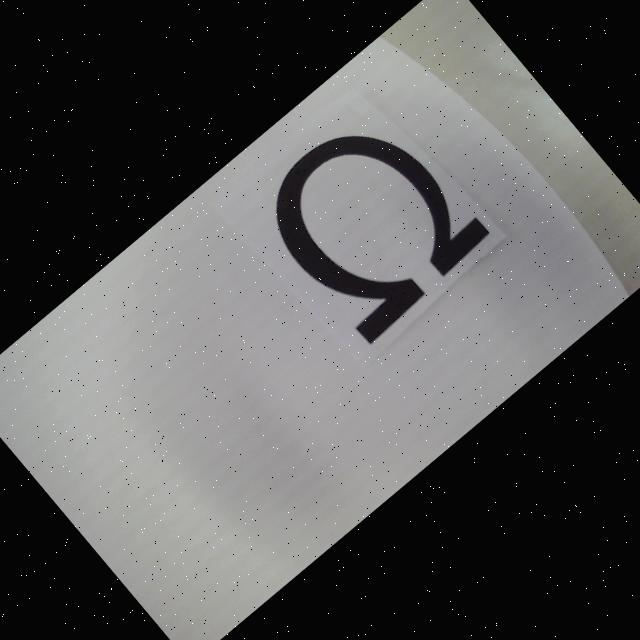OMEGA: (248, 96, 496, 347)
